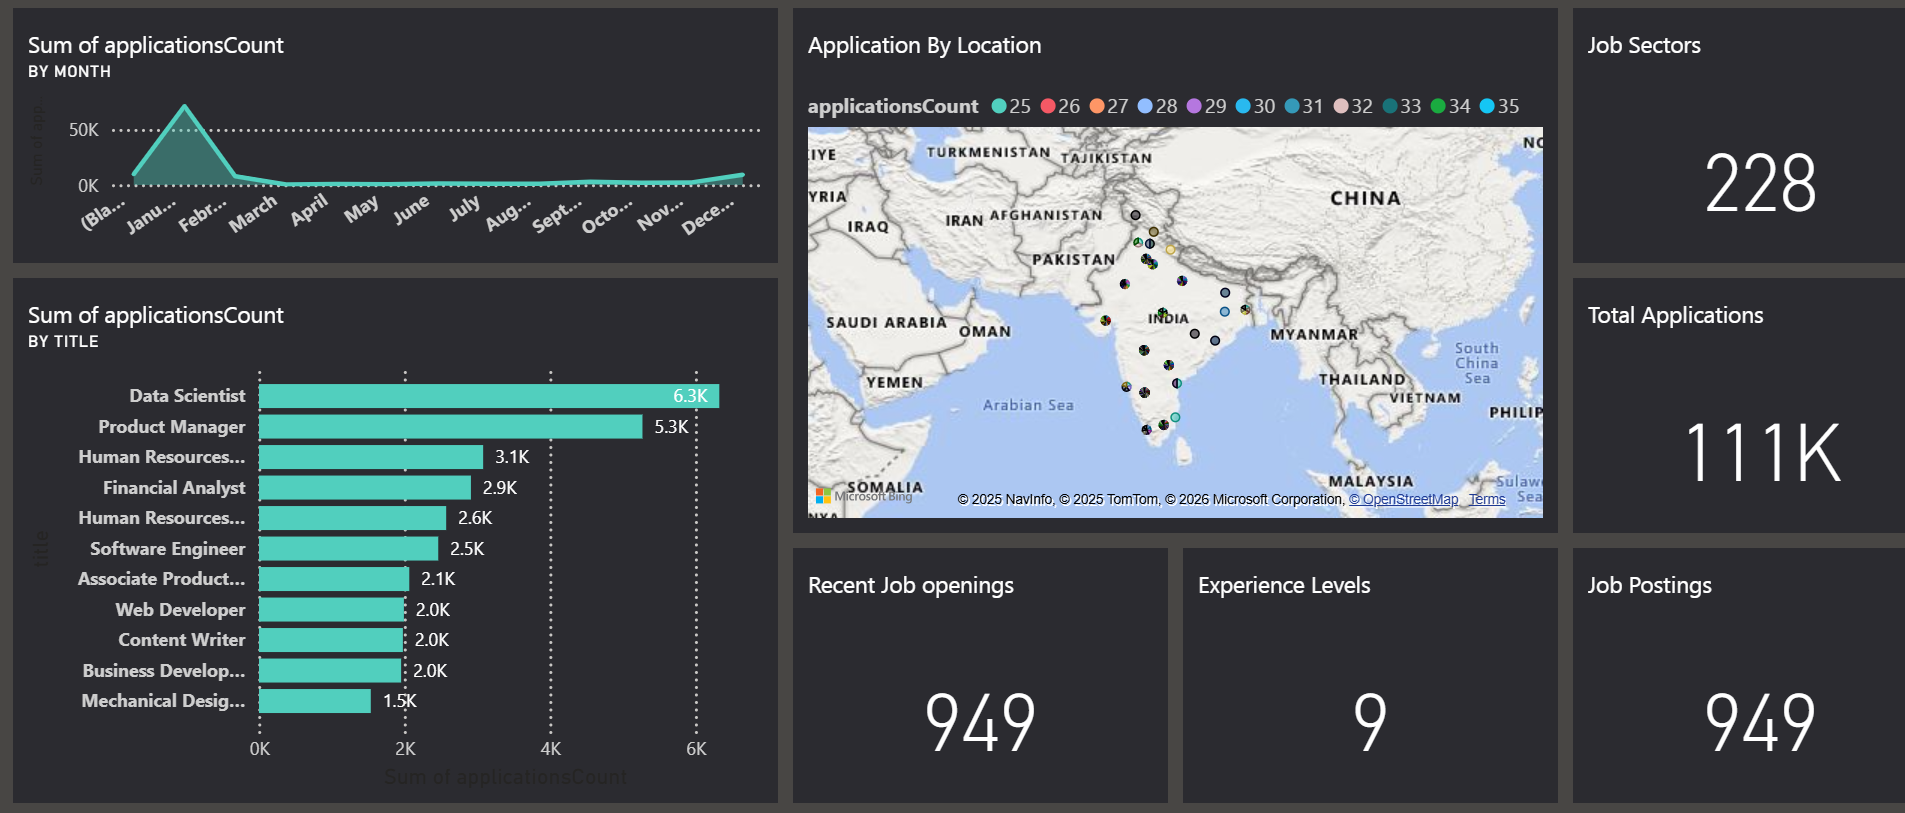

The page's visual inventory and layout, read from the dashboard file:
{"tool":"powerbi","page":{"name":"Page 3","canvas":[1280,720],"ordinal":2},"visuals":[{"type":"shape","box":[0,0,213.5,720],"z":0},{"type":"image","box":[60.5,13.2,113.4,90.7],"z":1000},{"type":"slicer","fields":{"Values":["linkden data_Set.companyName"]},"box":[11.3,122.8,192.8,79.4],"z":2000},{"type":"slicer","fields":{"Values":["linkden data_Set.contractType"]},"box":[11.3,224.9,192.8,81.3],"z":3000},{"type":"slicer","fields":{"Values":["linkden data_Set.description"]},"box":[11.3,319.4,192.8,81.3],"z":4000},{"type":"slicer","fields":{"Values":["linkden data_Set.experienceLevel"]},"box":[11.3,421.4,192.8,81.3],"z":5000},{"type":"image","box":[0,515.9,190.9,69.9],"z":6000},{"type":"image","box":[132.3,604.7,77.5,115.3],"z":7000},{"type":"image","box":[0,625.5,77.5,73.7],"z":8000},{"type":"textbox","box":[270,0,918,74],"z":9000},{"type":"card","title":"Total Applications","fields":{"Values":["Sum(linkden data_Set.applicationsCount)"]},"box":[226.8,73.7,187.1,151.2],"z":10000},{"type":"card","title":"Job Postings","fields":{"Values":["CountNonNull(linkden data_Set.companyId)"]},"box":[430.9,73.7,185.2,151.2],"z":11000},{"type":"card","title":"Experience Levels","fields":{"Values":["Count(linkden data_Set.experienceLevel)"]},"box":[640.6,73.7,204.1,151.2],"z":12000},{"type":"card","title":"Job Sectors","fields":{"Values":["Count(linkden data_Set.sector)"]},"box":[876.9,73.7,198.4,151.2],"z":13000},{"type":"card","title":"Recent Job openings","fields":{"Values":["CountNonNull(linkden data_Set.recently_posted_jobs)"]},"box":[1092.3,73.7,187.1,151.2],"z":14000},{"type":"shape","box":[218.8,239.6,500,100],"z":15000},{"type":"shape","box":[729.5,240,549.9,100.2],"z":16000},{"type":"map","title":"Job Position ","fields":{"Series":["linkden data_Set.sector"],"Category":["linkden data_Set.city","linkden data_Set.state"]},"box":[218.9,339.7,277.4,381.2],"z":17000},{"type":"barChart","title":"Cities with most Job Openings","fields":{"Category":["linkden data_Set.city"],"Y":["linkden data_Set.job_post"]},"box":[522.7,339.7,432.1,175.5],"z":18000},{"type":"columnChart","title":"State with most Job Openings","fields":{"Category":["linkden data_Set.state"],"Y":["linkden data_Set.job_post"]},"box":[522.7,530.2,432.1,190.6],"z":19000},{"type":"map","title":"Application By Location","fields":{"Series":["linkden data_Set.applicationsCount"],"Category":["linkden data_Set.state"]},"box":[954.8,339.7,324.6,379.3],"z":20000}]}

Visuals, with their boxes on the page's 1280x720 design canvas (x1, y1, x2, y2). These are canvas units, not pixel positions in the 1905x813 screenshot, which may show the page scaled, cropped or inside an application window:
shape: 0,0,214,720
image: 60,13,174,104
slicer - linkden data_Set.companyName: 11,123,204,202
slicer - linkden data_Set.contractType: 11,225,204,306
slicer - linkden data_Set.description: 11,319,204,401
slicer - linkden data_Set.experienceLevel: 11,421,204,503
image: 0,516,191,586
image: 132,605,210,720
image: 0,626,78,699
textbox: 270,0,1188,74
"Total Applications" card: 227,74,414,225
"Job Postings" card: 431,74,616,225
"Experience Levels" card: 641,74,845,225
"Job Sectors" card: 877,74,1075,225
"Recent Job openings" card: 1092,74,1279,225
shape: 219,240,719,340
shape: 730,240,1279,340
"Job Position " map: 219,340,496,721
"Cities with most Job Openings" barChart: 523,340,955,515
"State with most Job Openings" columnChart: 523,530,955,721
"Application By Location" map: 955,340,1279,719
